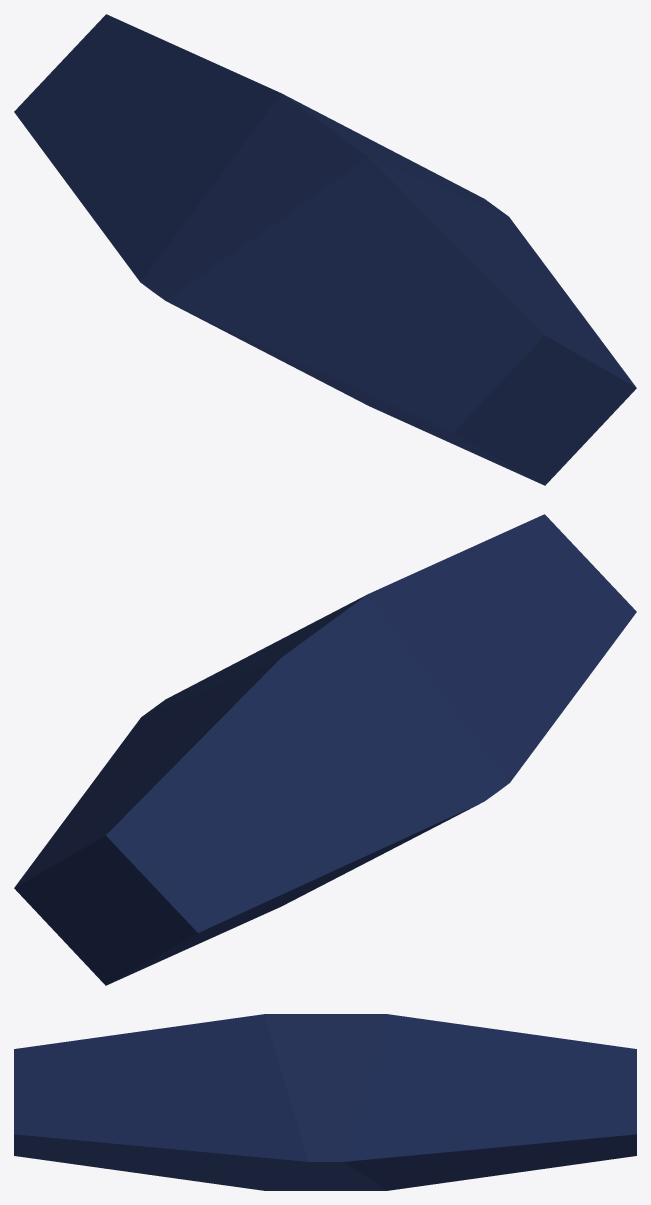
File: crypto.fbx
3 views of the same model, one above another, from view 1: azimuth 30°, elevation 25°; view 2: azimuth 150°, elevation 25°; view 3: azimuth 270°, elevation 25° (orthographic). The views are drawn at different scales.
Visible parts, largest first — view 1: Crypto - Physx; view 2: Crypto - Physx; view 3: Crypto - Physx.
Boxes of the visible parts, <box> form: Crypto - Physx: <box>14,14,636,485</box>; Crypto - Physx: <box>14,514,636,985</box>; Crypto - Physx: <box>14,1014,636,1190</box>.
Size of the model in its own units: 8.59 by 18.99 by 5.94.
